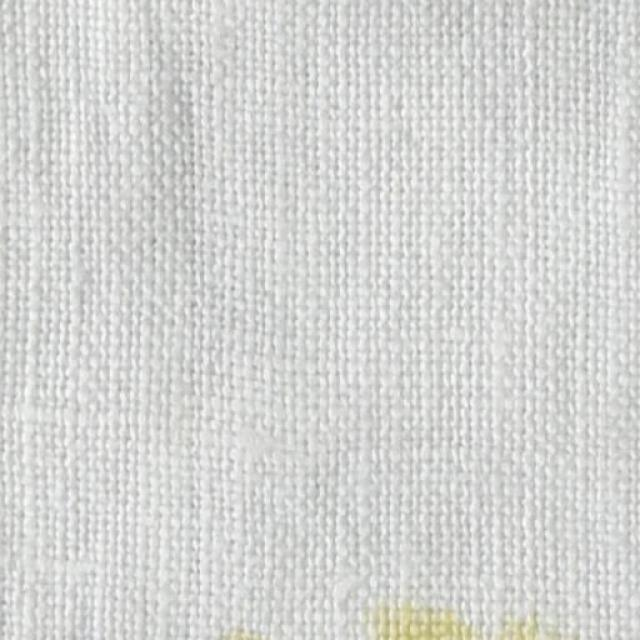Stain: (360, 602, 489, 639), (508, 622, 571, 639), (220, 632, 284, 639)
